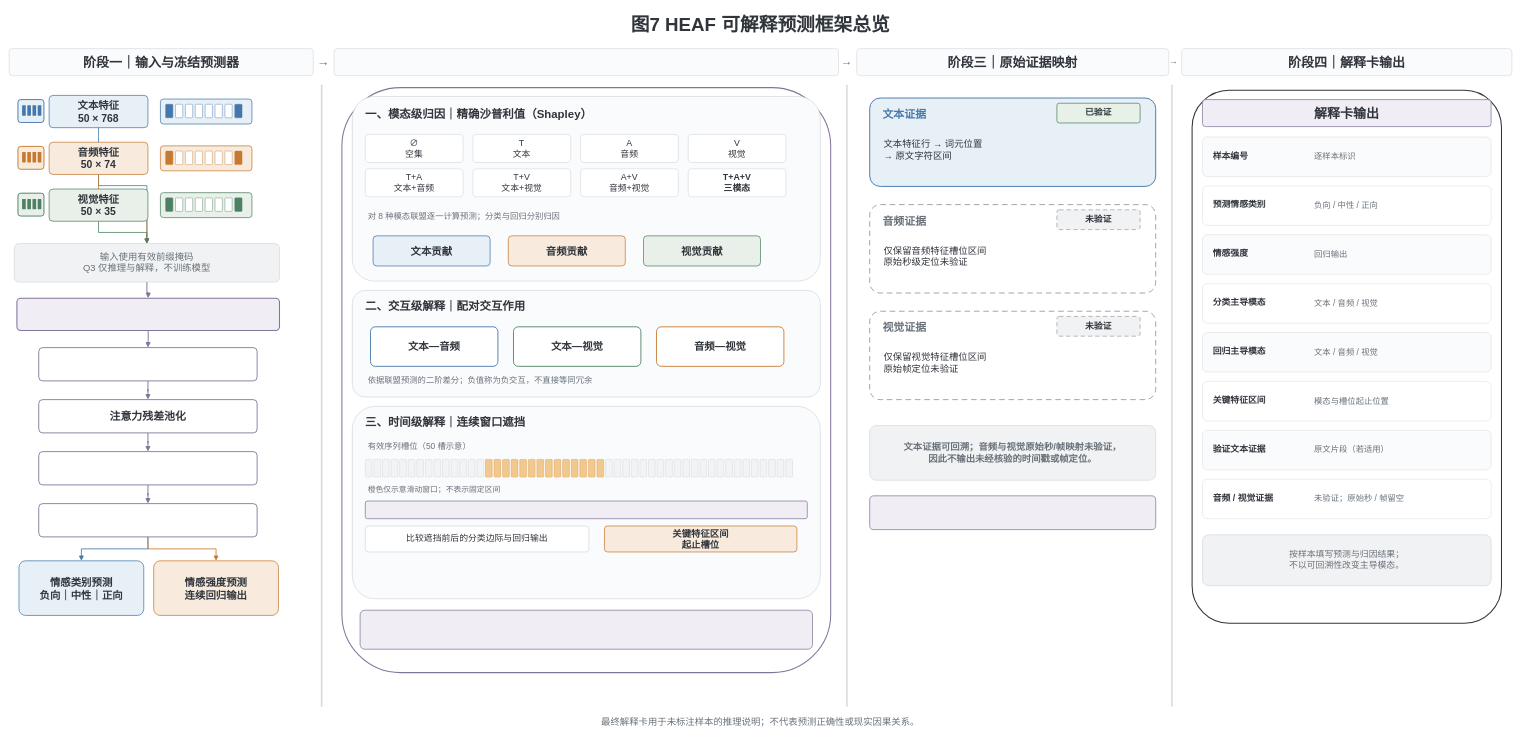
Image size: 1522x744. Some labels were removed from this diagram. Each missing label, with the centre of its shape:
"ρ：0.30 ｜ 步长：1 ｜ 仅在有效前缀内滑动" goes at point 586,509.
"冻结的 B5-P2 预测器 （随机种子 42；参数保持不变）" goes at point 148,314.
"双头输出" goes at point 147,520.
"带掩码均值池化" goes at point 147,364.
"融合多层感知机" goes at point 147,468.
"解释汇总：分类主导模态 ｜ 回归主导模态 ｜ 关键交互 ｜ 关键特征区间" goes at point 586,629.
"阶段二｜HEAF 层级解释" goes at point 586,62.
"音频 / 视觉结果保留为特征空间槽位区间" goes at point 1012,512.
